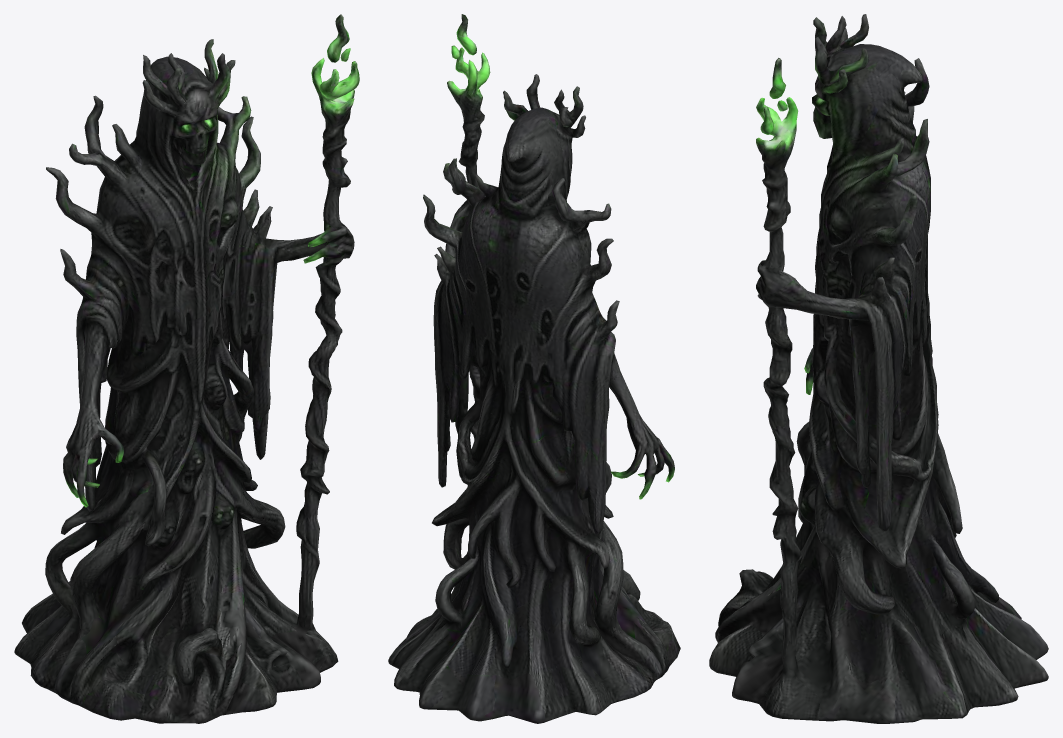
File: UD_Licht.glb
3 views of the same model, side by side, from view 1: azimuth 30°, elevation 25°; view 2: azimuth 150°, elevation 25°; view 3: azimuth 270°, elevation 25° (orthographic). The views are drawn at different scales.
Bounding box in the file's own units: 0.8258 × 1.91 × 0.8806.
Materials: 1 (1 with a texture image).
